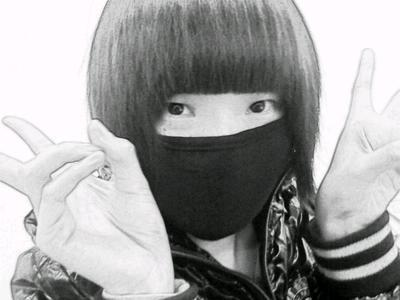face_mask: (134, 52, 291, 237)
